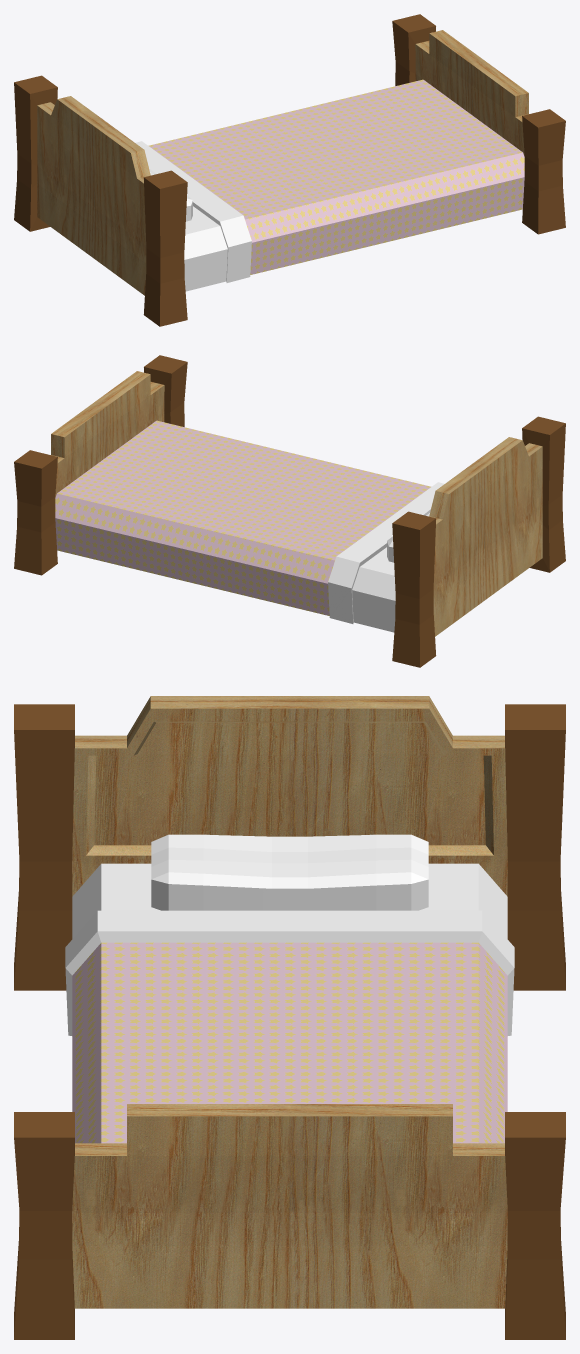
Rendered from Bed.fbx.
3 views of the same model, one above another, from view 1: azimuth 30°, elevation 25°; view 2: azimuth 150°, elevation 25°; view 3: azimuth 270°, elevation 25° (orthographic). The views are drawn at different scales.
Parts seen in each view (by area): view 1: Bed; view 2: Bed; view 3: Bed.
Part boxes in pixels (<box>): Bed: <box>14,14,565,326</box>; Bed: <box>14,355,565,667</box>; Bed: <box>14,696,565,1339</box>.
Size of the model in its own units: 143 by 48.98 by 88.98.
